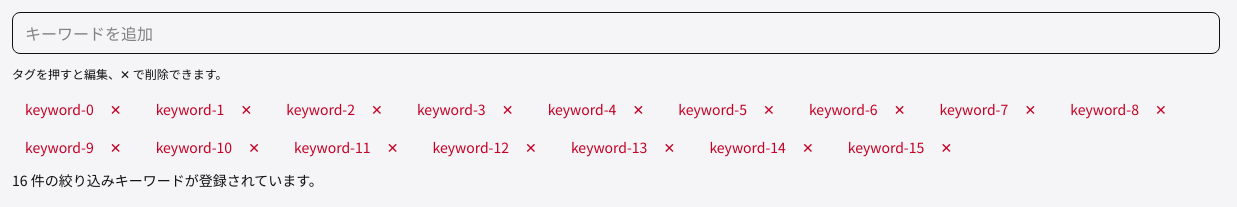
Test case: KeywordFilterComponent › prevents additions beyond sixteen keywords
Type "keyword-16" into the field with test id "keyword-filter-input" at (616, 33), box x1=12 y1=12 x2=1220 y2=54
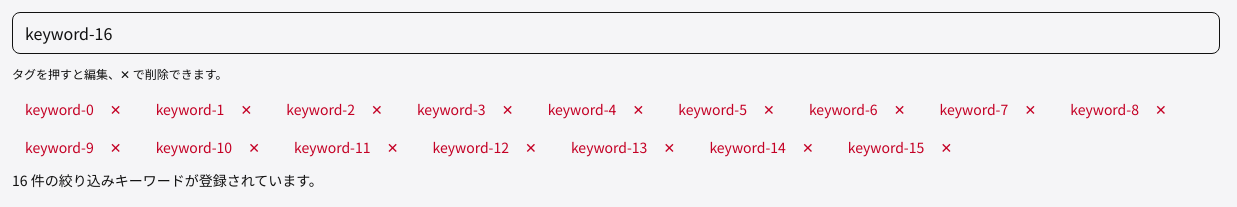
Press Enter in the field with test id "keyword-filter-input", box x1=12 y1=12 x2=1220 y2=54
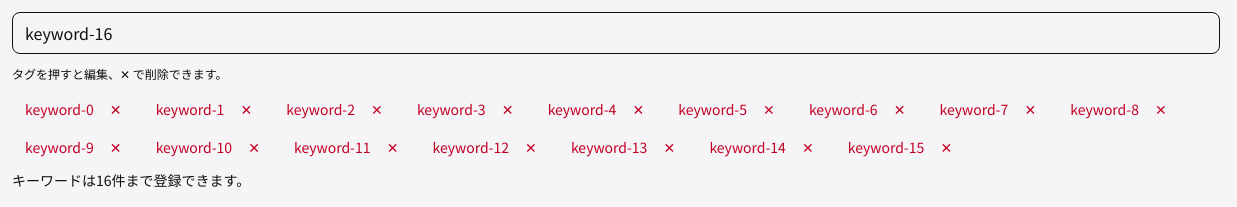
Expected: the text with test id "keyword-filter-status" shows "16件まで", x1=12 y1=170 x2=250 y2=190
